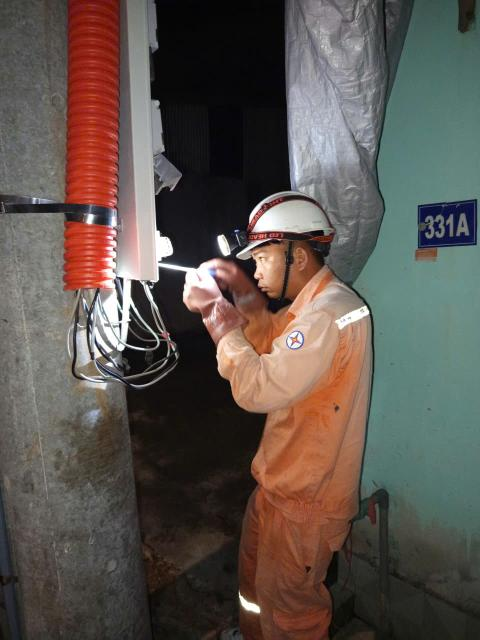gloves: (169, 267, 252, 348), (193, 248, 270, 317)
helmet: (223, 188, 370, 259)
